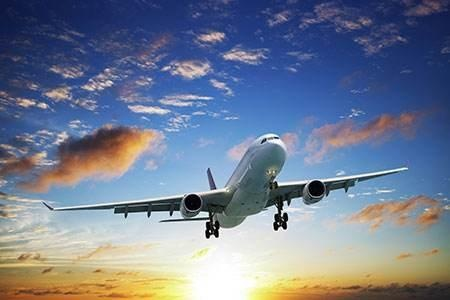airplane: (40, 133, 408, 248)
